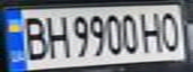0: (121, 10, 142, 55), (106, 11, 124, 56)
9: (87, 11, 109, 57), (69, 11, 90, 58)
B: (18, 12, 51, 61)
H: (42, 11, 69, 60), (139, 9, 166, 54)
O: (157, 8, 184, 53)
